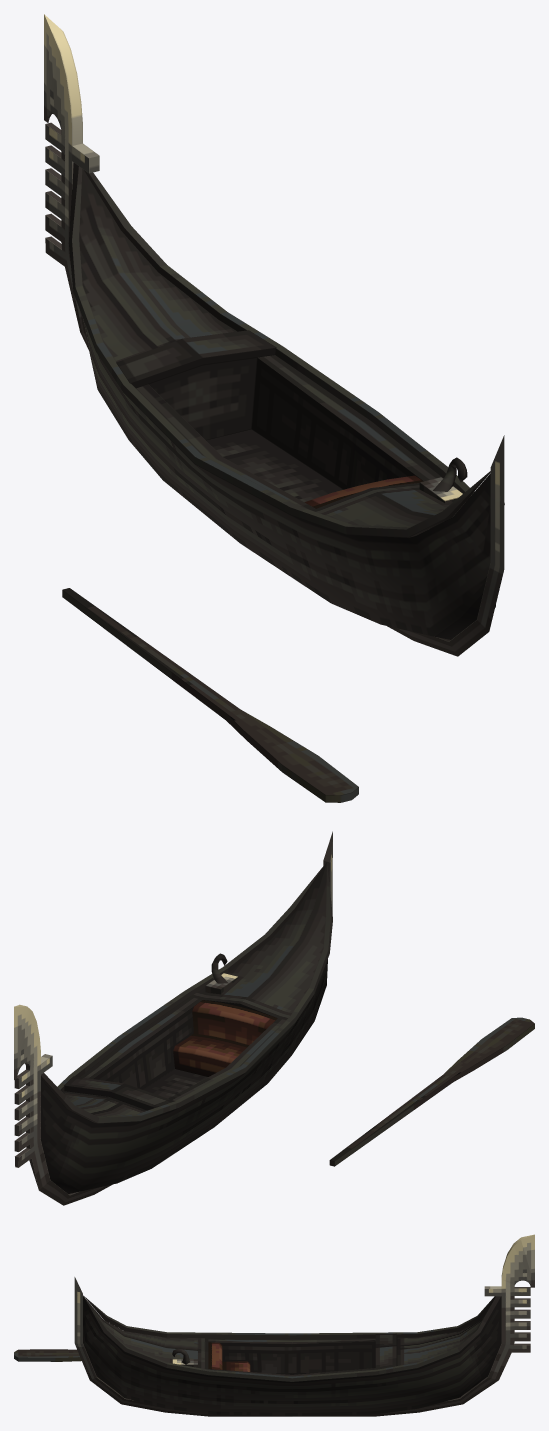
File: EnvObjMD_Gondola_A.FBX
3 views of the same model, one above another, from view 1: azimuth 30°, elevation 25°; view 2: azimuth 150°, elevation 25°; view 3: azimuth 270°, elevation 25° (orthographic). The views are drawn at different scales.
Parts seen in each view (by area): view 1: EnvObjMD_Gondola_A, EnvObjMD_Gondola_A_Paddle; view 2: EnvObjMD_Gondola_A, EnvObjMD_Gondola_A_Paddle; view 3: EnvObjMD_Gondola_A, EnvObjMD_Gondola_A_Paddle.
Boxes of the visible parts, bbox=[...] form: EnvObjMD_Gondola_A: bbox=[44, 14, 504, 656]; EnvObjMD_Gondola_A_Paddle: bbox=[62, 588, 358, 802]; EnvObjMD_Gondola_A: bbox=[14, 831, 332, 1205]; EnvObjMD_Gondola_A_Paddle: bbox=[329, 1017, 534, 1166]; EnvObjMD_Gondola_A: bbox=[74, 1234, 534, 1416]; EnvObjMD_Gondola_A_Paddle: bbox=[14, 1349, 81, 1361].
Bounding box in the file's own units: 227 × 240 × 622.
Materials: 1 (1 with a texture image).
